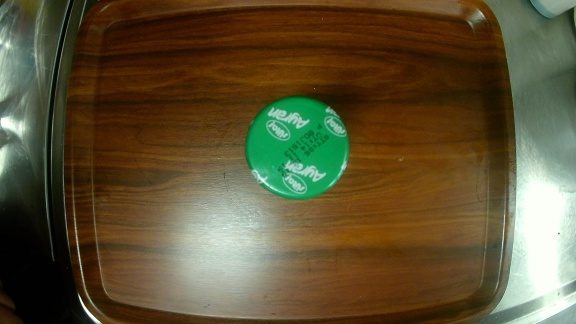ayran: (241, 93, 356, 203)
